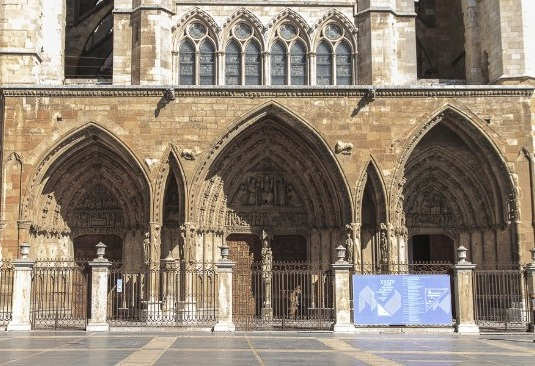arco-apuntado: (188, 97, 355, 223), (389, 103, 522, 221), (24, 120, 153, 224), (153, 139, 188, 224), (354, 151, 389, 225), (220, 5, 267, 52), (267, 6, 312, 54), (312, 6, 358, 52), (173, 6, 220, 51)
